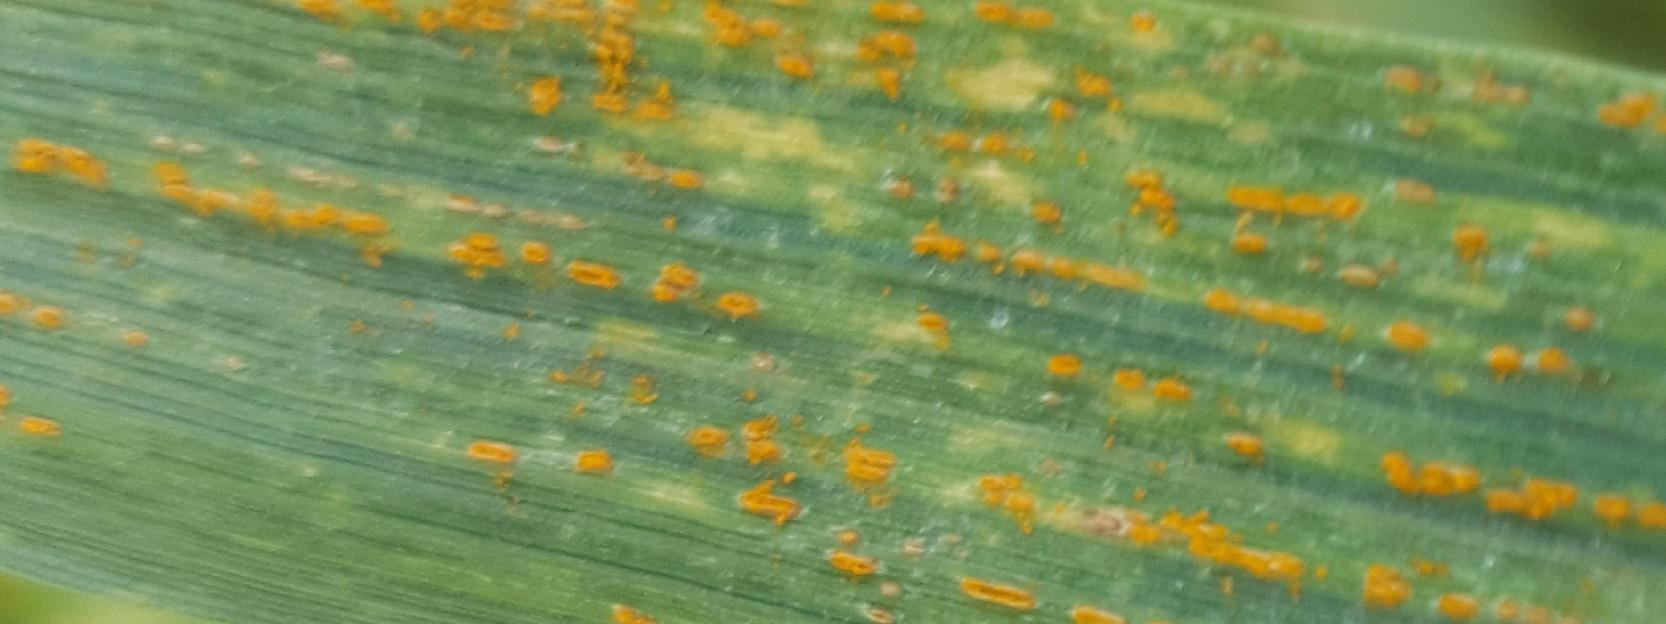Wheat: (855, 85, 1596, 617), (436, 49, 838, 577), (5, 97, 415, 467)
